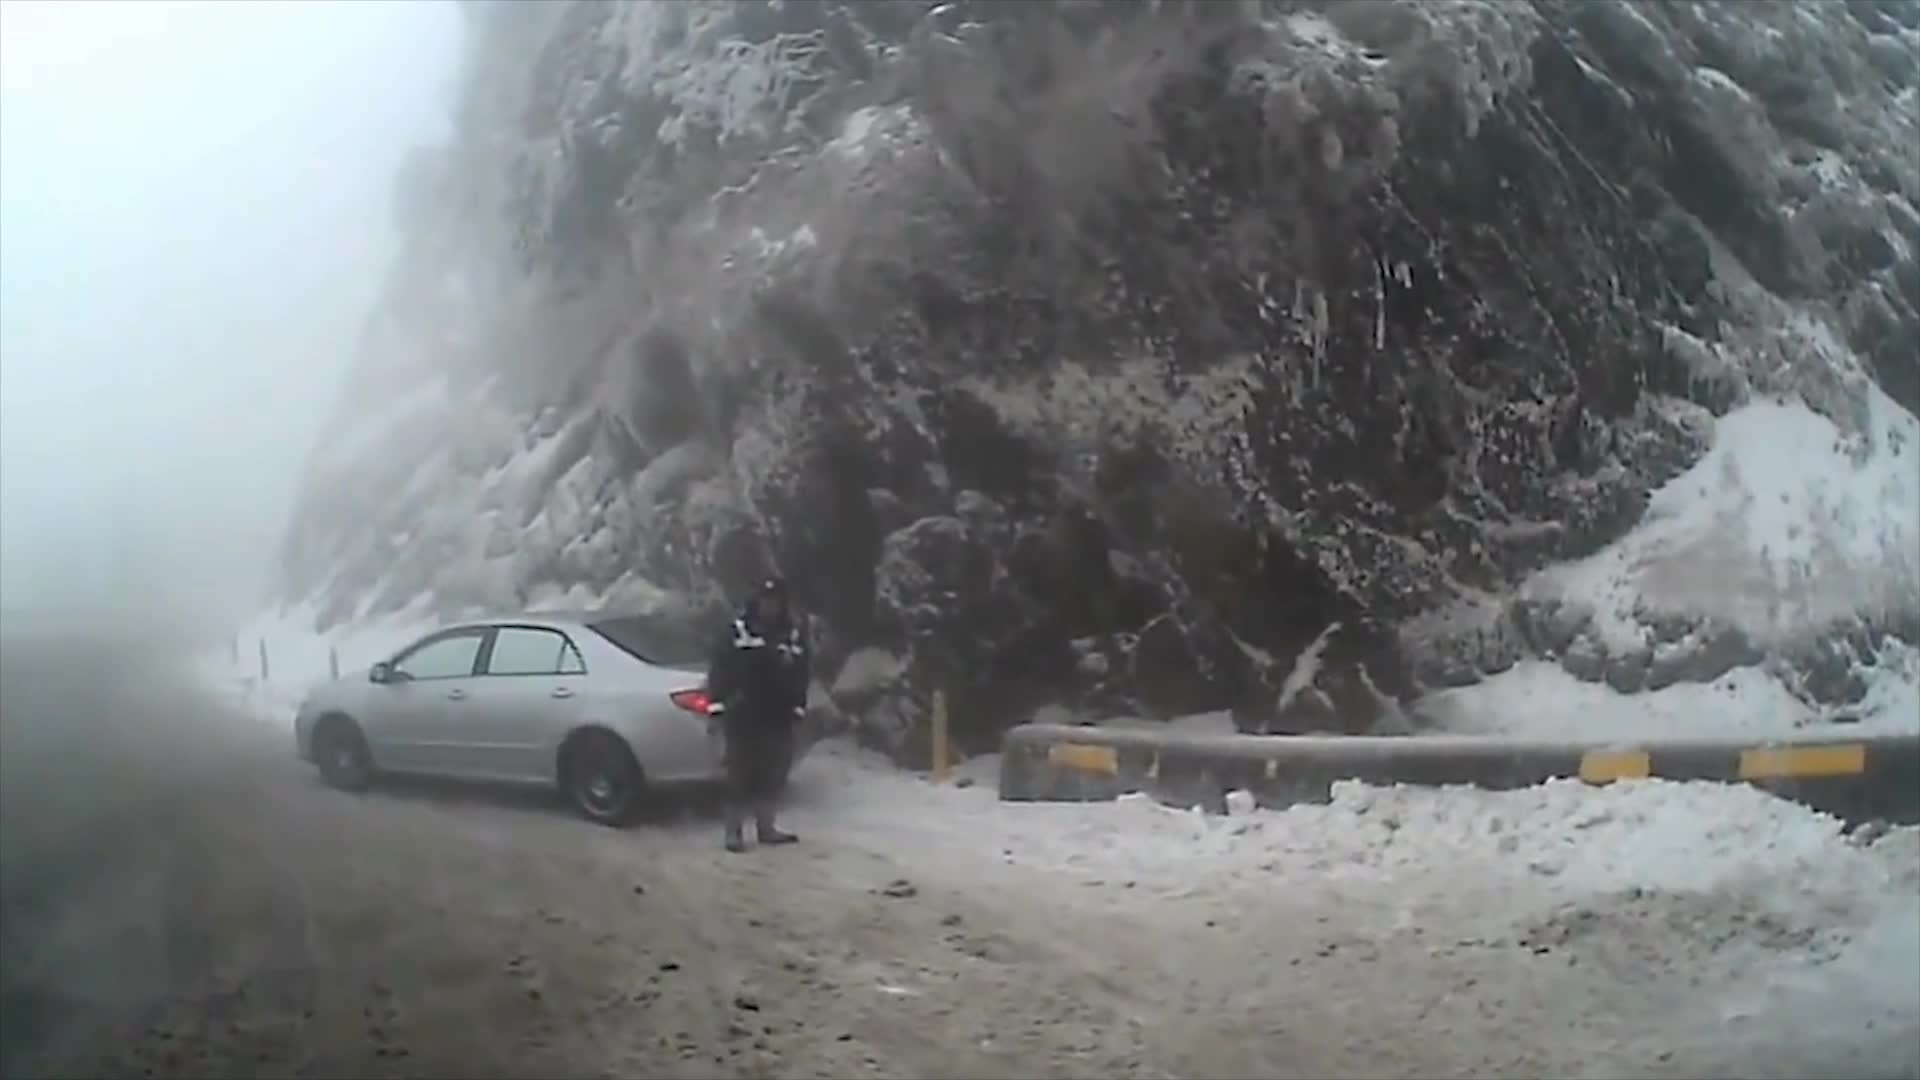pedestrian: (705, 569, 811, 847)
vehicle: (294, 603, 809, 828)
